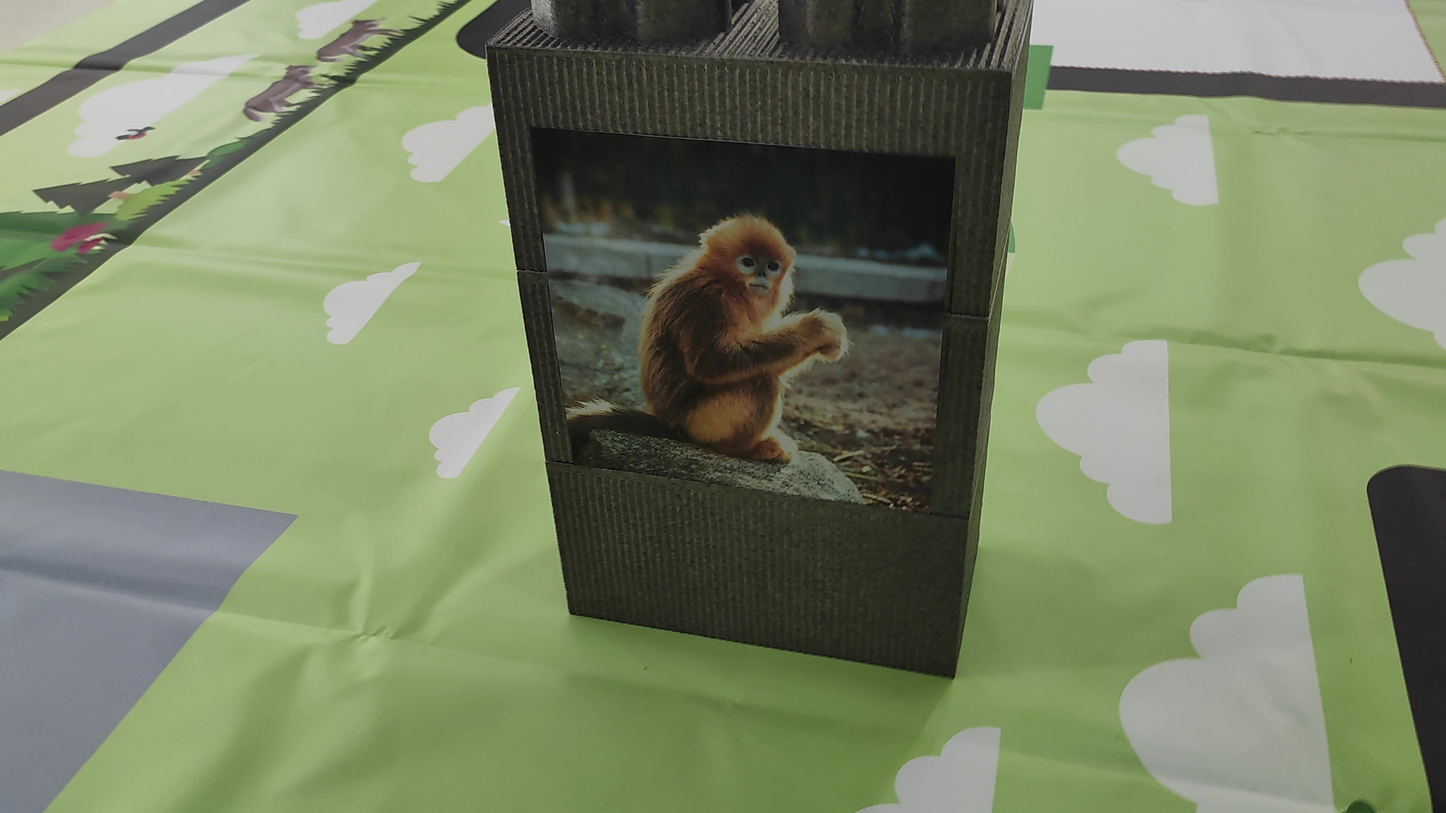monkey: (579, 160, 891, 486)
